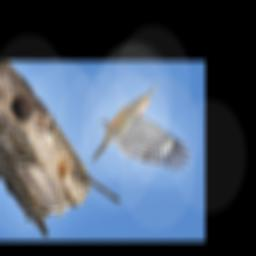Woodpecker: (90, 83, 193, 173)
